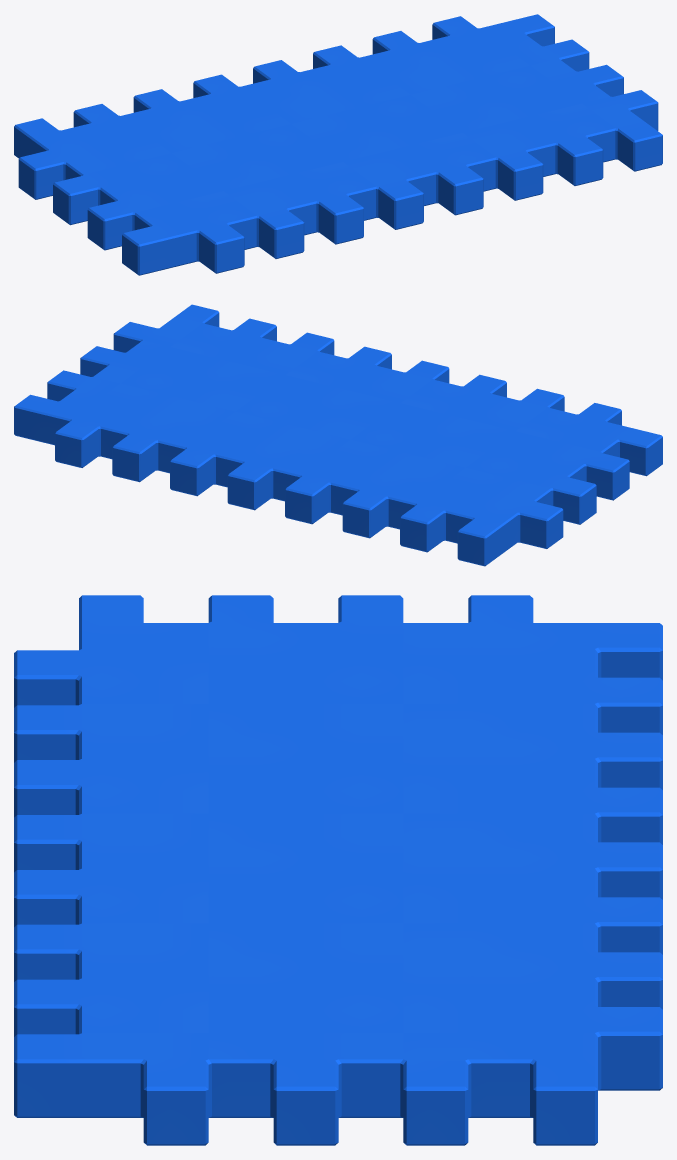
File: BlueRect.fbx
3 views of the same model, one above another, from view 1: azimuth 30°, elevation 25°; view 2: azimuth 150°, elevation 25°; view 3: azimuth 270°, elevation 25° (orthographic). The views are drawn at different scales.
Visible parts, largest first — view 1: BlueRect; view 2: BlueRect; view 3: BlueRect.
Boxes of the visible parts, <box> form: BlueRect: <box>14,14,662,275</box>; BlueRect: <box>14,304,662,566</box>; BlueRect: <box>14,595,662,1145</box>.
Bounding box in the file's own units: 9 × 0.5001 × 5.
